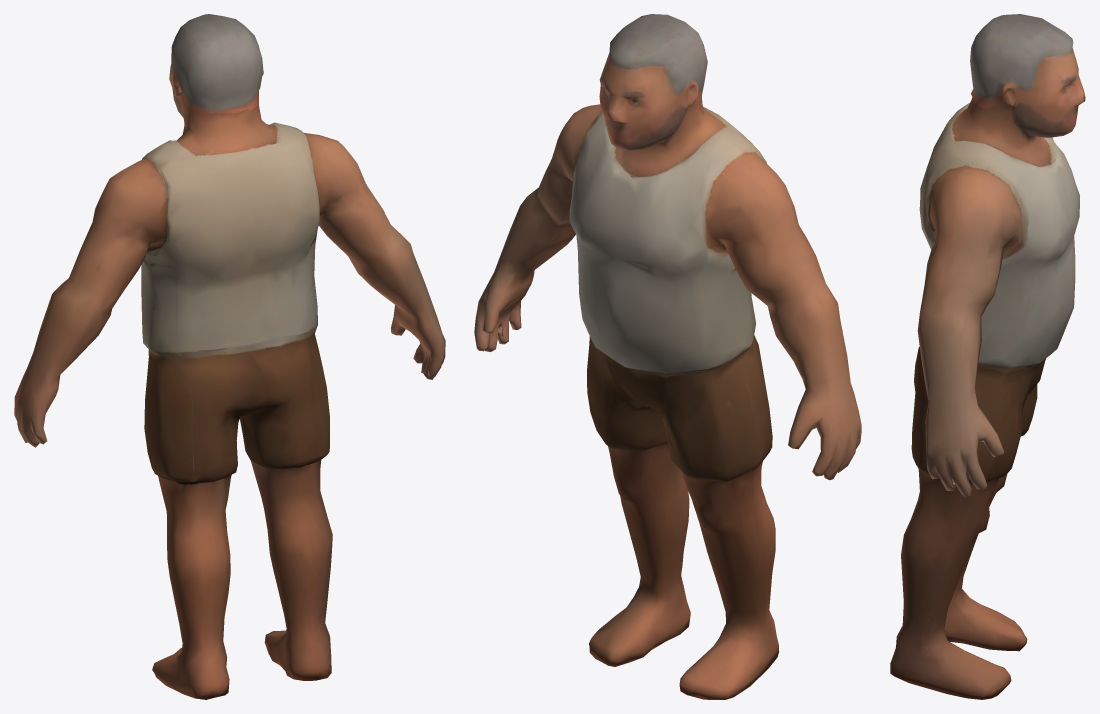
3 views of the same model, side by side, from view 1: azimuth 30°, elevation 25°; view 2: azimuth 150°, elevation 25°; view 3: azimuth 270°, elevation 25° (orthographic). The views are drawn at different scales.
Parts seen in each view (by area): view 1: world; view 2: world; view 3: world.
Part boxes in pixels (x1,y1,x2,y2): world: (14, 14, 445, 699); world: (474, 14, 861, 699); world: (890, 14, 1085, 699).
Bounding box in the file's own units: 0.5615 × 0.8792 × 0.2416.
1 material, 1 textured.
